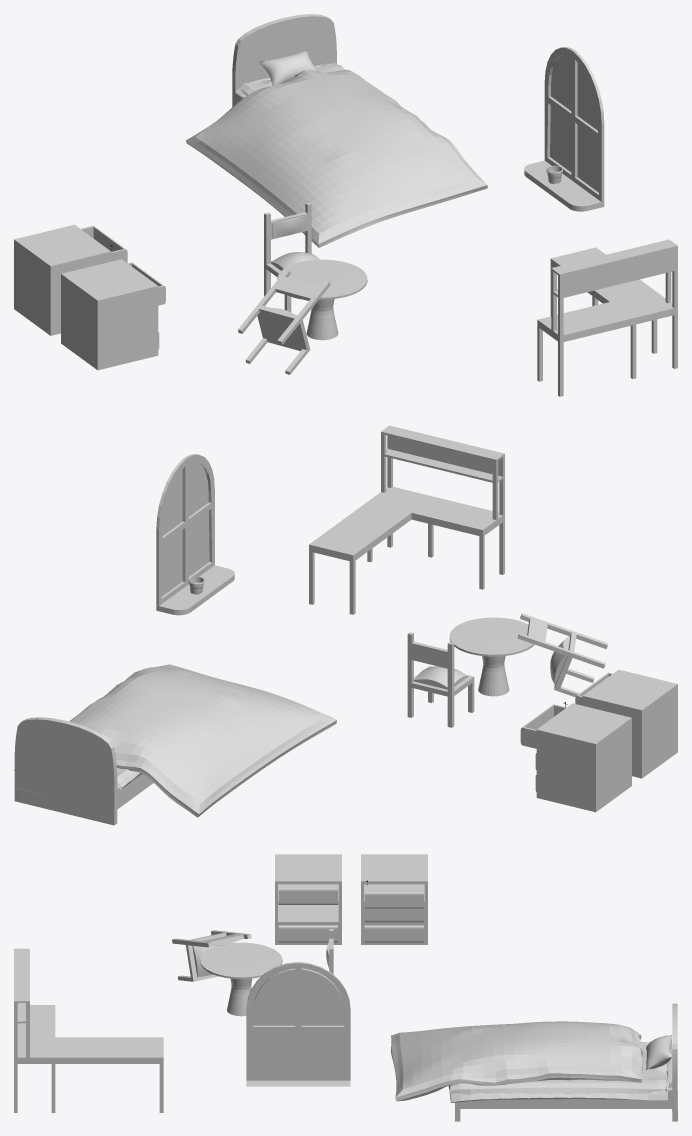
File: odaModeli.fbx
The picture shows the model from 3 angles, top to bottom: view 1: azimuth 30°, elevation 25°; view 2: azimuth 150°, elevation 25°; view 3: azimuth 270°, elevation 25°; orthographic projection. The views are drawn at different scales.
Parts seen in each view (by area): view 1: duvet, Desk, drawer2, window, drawer, bedframe, chair2, table, chair, pillow, sheets; view 2: duvet, Desk, bedframe, drawer, window, drawer2, table, chair, chair2; view 3: duvet, window, Desk, drawer, drawer2, sheets, table, bedframe, chair2, pillow.
Boxes of the visible parts, x1=… form: duvet: x1=186, y1=69, x2=487, y2=247; Desk: x1=537, y1=239, x2=677, y2=396; drawer2: x1=61, y1=259, x2=165, y2=370; window: x1=524, y1=47, x2=604, y2=211; drawer: x1=14, y1=224, x2=127, y2=335; bedframe: x1=232, y1=14, x2=336, y2=106; chair2: x1=238, y1=269, x2=330, y2=374; table: x1=277, y1=259, x2=367, y2=340; chair: x1=264, y1=202, x2=319, y2=312; pillow: x1=259, y1=50, x2=317, y2=85; sheets: x1=235, y1=62, x2=345, y2=98; duvet: x1=69, y1=664, x2=336, y2=817; Desk: x1=309, y1=425, x2=504, y2=614; bedframe: x1=14, y1=717, x2=153, y2=825; drawer: x1=520, y1=703, x2=631, y2=812; window: x1=156, y1=454, x2=234, y2=615; drawer2: x1=575, y1=669, x2=677, y2=778; table: x1=449, y1=617, x2=534, y2=696; chair: x1=407, y1=632, x2=474, y2=727; chair2: x1=517, y1=613, x2=607, y2=697; duvet: x1=391, y1=1021, x2=643, y2=1101; window: x1=246, y1=962, x2=350, y2=1086; Desk: x1=14, y1=948, x2=163, y2=1112; drawer: x1=361, y1=854, x2=427, y2=944; drawer2: x1=275, y1=854, x2=341, y2=944; sheets: x1=448, y1=1041, x2=669, y2=1102; table: x1=200, y1=942, x2=282, y2=1016; bedframe: x1=455, y1=1003, x2=677, y2=1121; chair2: x1=172, y1=930, x2=251, y2=981; pillow: x1=645, y1=1035, x2=672, y2=1069.
Bounding box in the file's own units: 16219 × 6003 × 20788.
